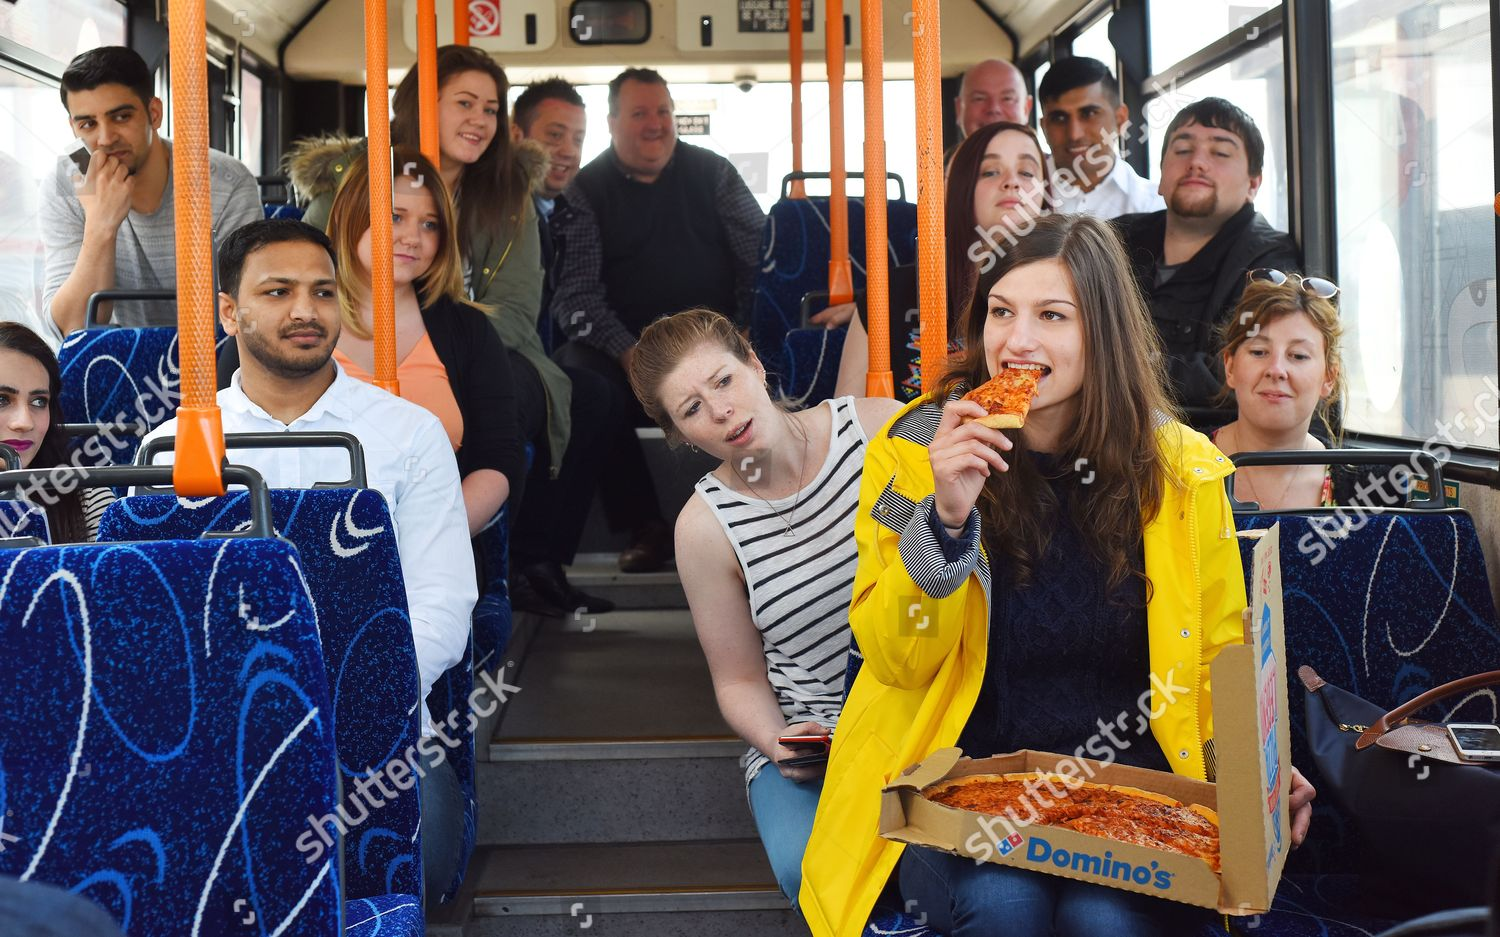eating: (861, 199, 1253, 640)
